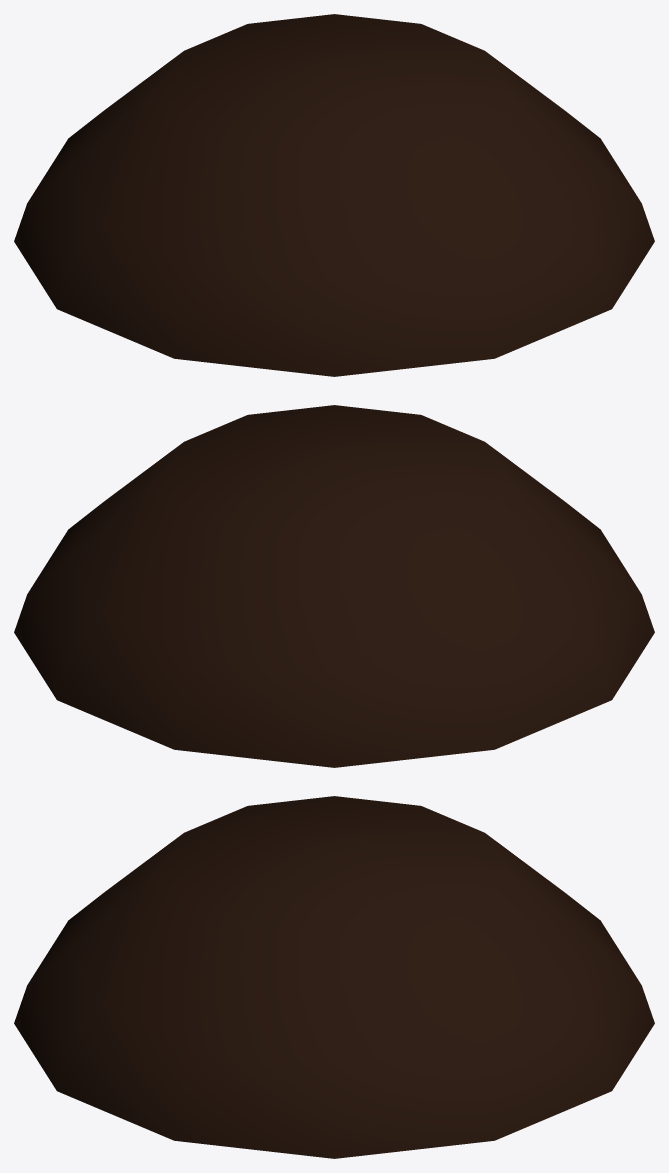
The model's file is stufe1.FBX.
3 views of the same model, one above another, from view 1: azimuth 30°, elevation 25°; view 2: azimuth 150°, elevation 25°; view 3: azimuth 270°, elevation 25° (orthographic).
Visible parts, largest first — view 1: erde; view 2: erde; view 3: erde.
Boxes of the visible parts, bbox=[...] form: erde: bbox=[14, 14, 654, 376]; erde: bbox=[14, 405, 654, 767]; erde: bbox=[14, 796, 654, 1158].
Bounding box in the file's own units: 0.7405 × 0.2188 × 0.7405.
